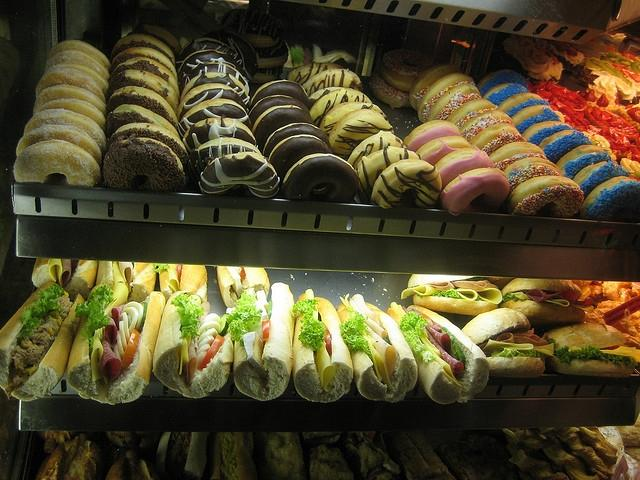lettuce: (74, 284, 114, 352), (549, 337, 638, 366), (19, 283, 65, 339), (226, 288, 263, 347), (338, 306, 373, 362), (292, 298, 328, 352), (170, 294, 205, 338), (405, 330, 436, 362), (416, 288, 466, 299), (491, 348, 526, 359), (502, 292, 518, 303), (153, 264, 171, 273), (522, 350, 538, 357)
